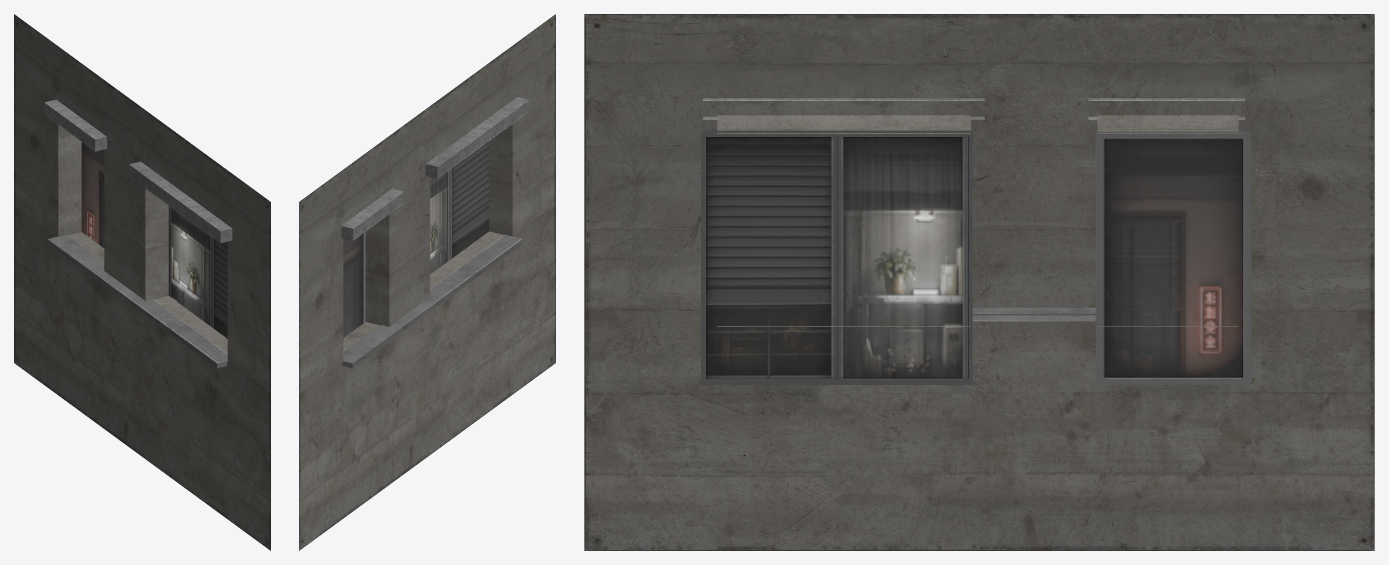
Rendered from CP_Windows_B_4x3m_10.fbx.
The picture shows the model from 3 angles, left to right: view 1: azimuth 30°, elevation 25°; view 2: azimuth 150°, elevation 25°; view 3: azimuth 270°, elevation 25°; orthographic projection. The views are drawn at different scales.
Visible parts, largest first — view 1: CP_Windows_B_4x3m_10; view 2: CP_Windows_B_4x3m_10; view 3: CP_Windows_B_4x3m_10.
Part boxes in pixels (box(x1,y1,x2,y2)): CP_Windows_B_4x3m_10: box(14, 14, 270, 550); CP_Windows_B_4x3m_10: box(299, 14, 555, 550); CP_Windows_B_4x3m_10: box(584, 14, 1374, 550).
Bounding box in the file's own units: 32.89 × 300 × 400.
